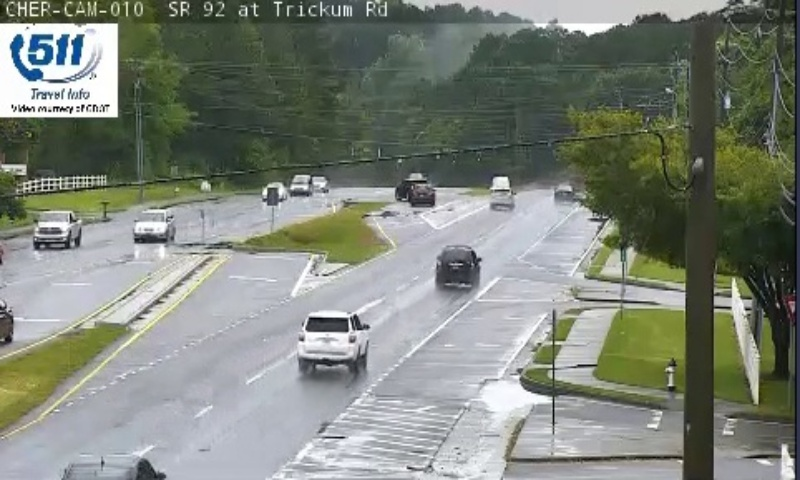car: (297, 310, 368, 364), (435, 245, 480, 283), (488, 185, 513, 209)
